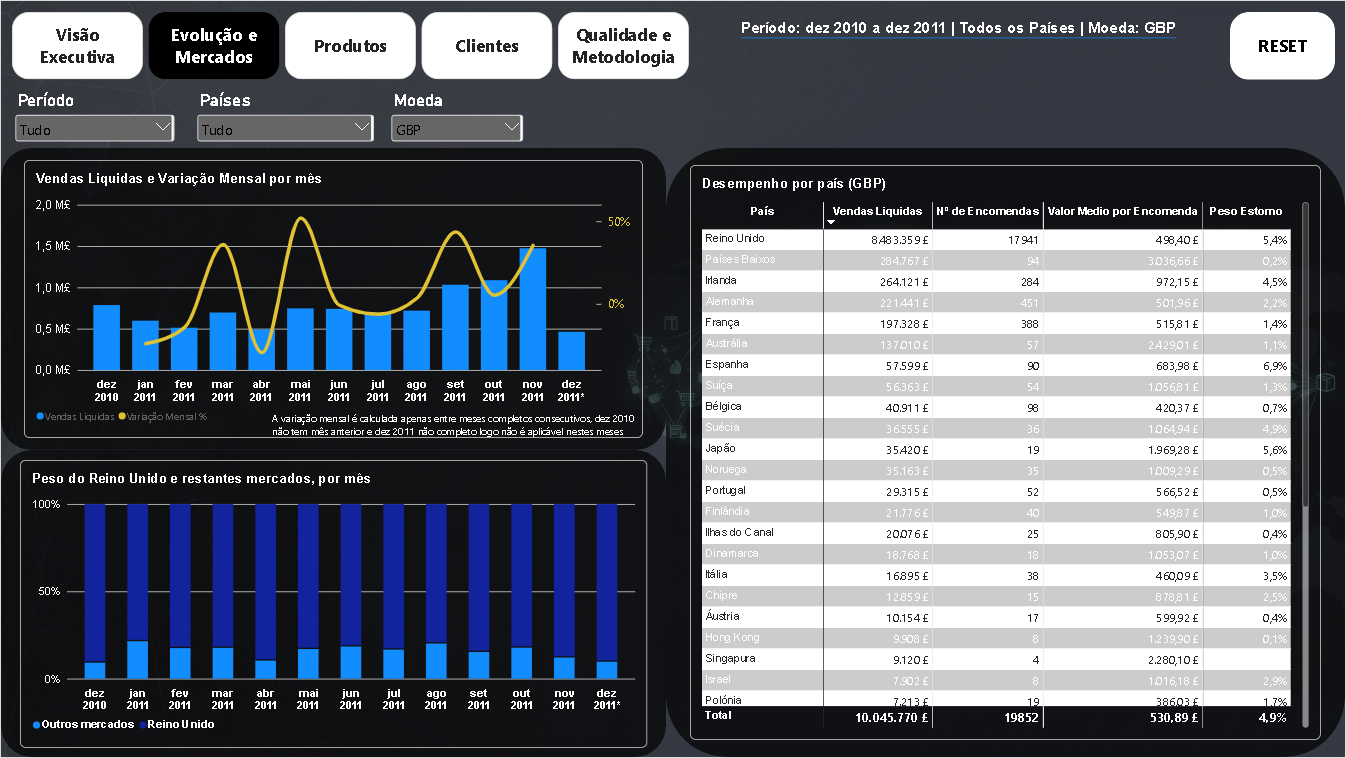

The page's visual inventory and layout, read from the dashboard file:
{"tool":"powerbi","page":{"name":"Evolução e Mercados","canvas":[1920,1080],"ordinal":1},"visuals":[{"type":"actionButton","box":[1755,15,150,96.7],"z":0},{"type":"pageNavigator","box":[15,15,971.7,96.7],"z":1000},{"type":"slicer","title":"Período","fields":{"Values":["dCalendario.MesAno"]},"box":[15,128.3,236.7,96.7],"z":2000},{"type":"slicer","title":"Período","fields":{"Values":["dPais.PaisPT"]},"box":[275,128.3,261.7,96.7],"z":3000},{"type":"slicer","title":"Período","fields":{"Values":["dMoeda.Moeda"]},"box":[553.3,128.3,198.3,96.7],"z":4000},{"type":"textbox","box":[1056.7,26.7,678.3,101.7],"z":5000},{"type":"shape","box":[0,210,950,431.4],"z":6000},{"type":"lineClusteredColumnComboChart","title":"Vendas Liquidas e Variação Mensal por mês","fields":{"Category":["dCalendario.RotuloMes"],"Y":["_Medidas.Vendas Liquidas"],"Y2":["_Medidas.Variação Mensal %"]},"box":[32.9,227.1,884.3,397.1],"z":7000},{"type":"shape","box":[0,641.4,950,438.6],"z":8000},{"type":"hundredPercentStackedColumnChart","title":"Peso do Reino Unido e restantes mercados, por mês","fields":{"Category":["dCalendario.RotuloMes"],"Series":["dPais.Mercado"],"Y":["_Medidas.Vendas Liquidas"]},"box":[27.1,655.7,895.7,411.4],"z":9000},{"type":"shape","box":[950,210,970,870],"z":10000},{"type":"pivotTable","fields":{"Rows":["dPais.PaisPT"],"Values":["_Medidas.Vendas Liquidas","_Medidas.Encomendas de Venda","_Medidas.Valor Medio por Encomenda","_Medidas.Peso Estorno"]},"box":[984.3,234.3,901.4,821.4],"z":11000},{"type":"textbox","box":[387.1,585.7,530,38.6],"z":12000}]}

Visuals, with their boxes in screenshot pixels (x1, y1, x2, y2), scaled from the page's 1920x1080 canvas onto the 1346x758 screenshot:
actionButton: 1230 11 1335 78
pageNavigator: 11 11 692 78
"Período" slicer: 11 90 176 158
"Período" slicer: 193 90 376 158
"Período" slicer: 388 90 527 158
textbox: 741 19 1216 90
shape: 0 147 666 450
"Vendas Liquidas e Variação Mensal por mês" lineClusteredColumnComboChart: 23 159 643 438
shape: 0 450 666 757
"Peso do Reino Unido e restantes mercados, por mês" hundredPercentStackedColumnChart: 19 460 647 749
shape: 666 147 1345 757
pivotTable - dPais.PaisPT x _Medidas.Vendas Liquidas: 690 164 1322 741
textbox: 271 411 643 438
